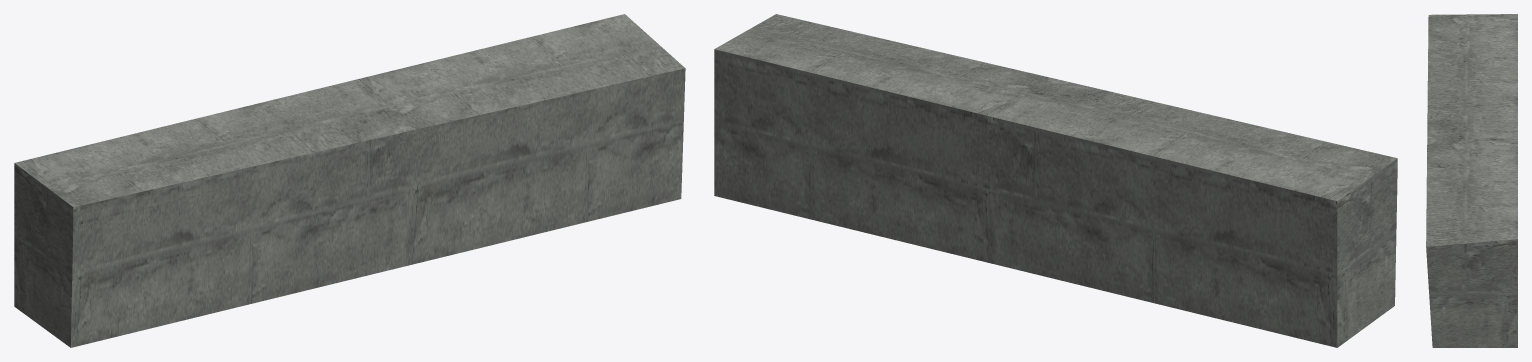
The model's file is PlatformEdge_LOD1.fbx.
3 renders of one model, left to right at view 1: azimuth 30°, elevation 25°; view 2: azimuth 150°, elevation 25°; view 3: azimuth 270°, elevation 25°, orthographic. The views are drawn at different scales.
Visible parts, largest first — view 1: PlatformEdge.001; view 2: PlatformEdge.001; view 3: PlatformEdge.001.
Part boxes in pixels (x1,y1,x2,y2): PlatformEdge.001: [14, 14, 685, 347]; PlatformEdge.001: [714, 14, 1397, 347]; PlatformEdge.001: [1426, 14, 1517, 347].
Size of the model in its own units: 2 by 0.45 by 0.3444.
1 material, 1 textured.
